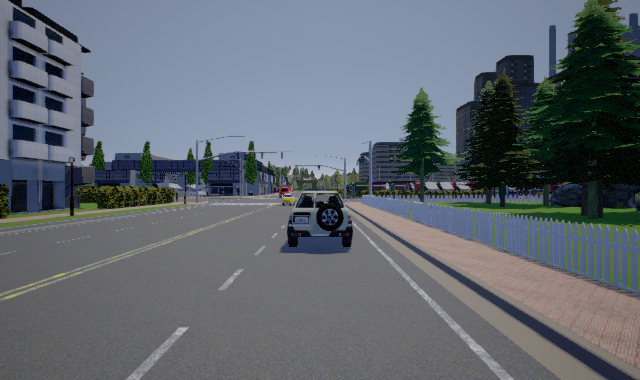vehicle: (287, 190, 353, 247), (281, 194, 298, 206)
